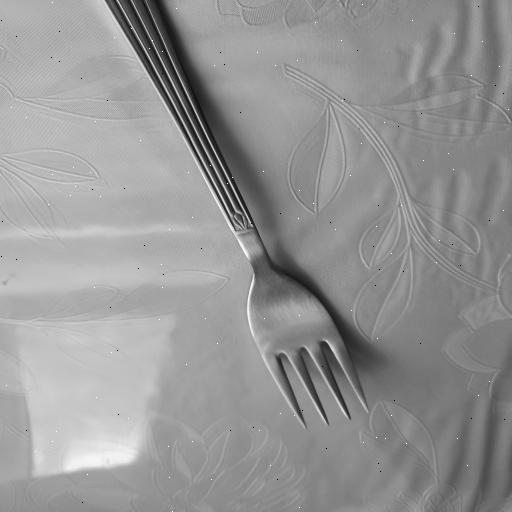fork: (100, 0, 374, 429)
